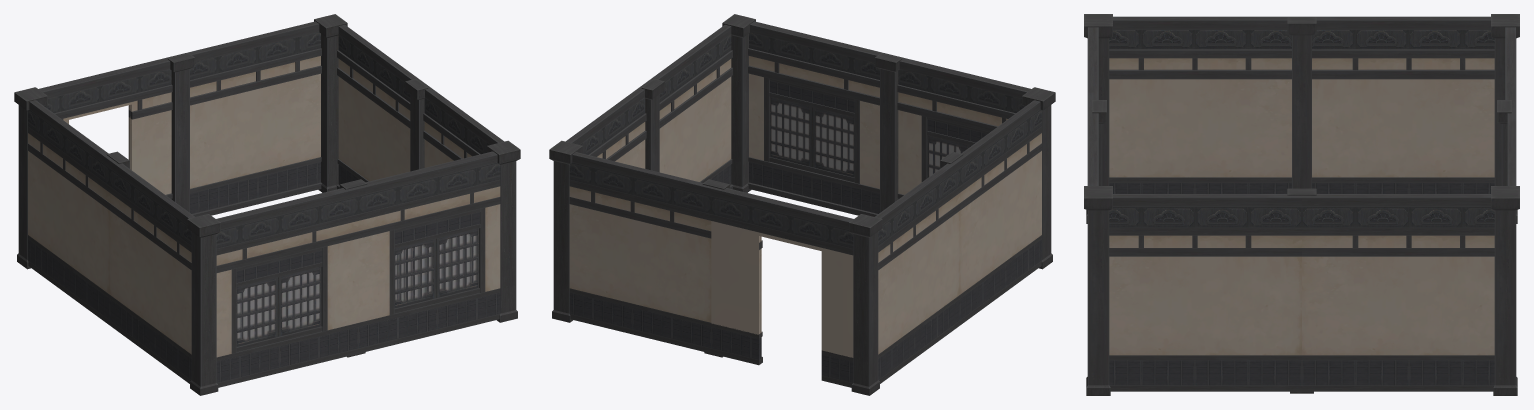
File: Homeworld_Interior_Dq_Room_H_Wall_01_Vo.fbx
The picture shows the model from 3 angles, left to right: view 1: azimuth 30°, elevation 25°; view 2: azimuth 150°, elevation 25°; view 3: azimuth 270°, elevation 25°; orthographic projection. The views are drawn at different scales.
Visible parts, largest first — view 1: Homeworld_Interior_Dq_Room_Wall_01_Vo (×5), Homeworld_Interior_Dq_Room_Wall_02_Vo (×2), Homeworld_Interior_Dq_Room_Pillar_01_Vo (×4), Homeworld_Interior_Dq_Room_Wall_06_Vo, Homeworld_Interior_Dq_Room_H_Filling_01_Vo, Homeworld_Interior_Dq_Room_Pillar_02_Vo (×2); view 2: Homeworld_Interior_Dq_Room_Wall_01_Vo (×5), Homeworld_Interior_Dq_Room_Wall_02_Vo (×2), Homeworld_Interior_Dq_Room_Wall_06_Vo, Homeworld_Interior_Dq_Room_Pillar_01_Vo (×4), Homeworld_Interior_Dq_Room_Pillar_02_Vo (×2); view 3: Homeworld_Interior_Dq_Room_Wall_01_Vo (×5), Homeworld_Interior_Dq_Room_Pillar_01_Vo (×4), Homeworld_Interior_Dq_Room_Pillar_02_Vo (×3), Homeworld_Interior_Dq_Room_Wall_02_Vo (×2), Homeworld_Interior_Dq_Room_Wall_06_Vo.
Part boxes in pixels (x1,y1,x2,y2): Homeworld_Interior_Dq_Room_Wall_01_Vo (×5): (28, 21, 504, 383); Homeworld_Interior_Dq_Room_Wall_02_Vo (×2): (216, 151, 500, 387); Homeworld_Interior_Dq_Room_Pillar_01_Vo (×4): (14, 14, 520, 395); Homeworld_Interior_Dq_Room_Wall_06_Vo: (38, 55, 176, 199); Homeworld_Interior_Dq_Room_H_Filling_01_Vo: (130, 105, 477, 340); Homeworld_Interior_Dq_Room_Pillar_02_Vo (×2): (167, 53, 428, 212); Homeworld_Interior_Dq_Room_Wall_01_Vo (×5): (565, 24, 1041, 383); Homeworld_Interior_Dq_Room_Wall_02_Vo (×2): (748, 21, 1031, 216); Homeworld_Interior_Dq_Room_Wall_06_Vo: (711, 187, 853, 387); Homeworld_Interior_Dq_Room_Pillar_01_Vo (×4): (549, 14, 1055, 395); Homeworld_Interior_Dq_Room_Pillar_02_Vo (×2): (641, 53, 902, 212); Homeworld_Interior_Dq_Room_Wall_01_Vo (×5): (1109, 16, 1515, 391); Homeworld_Interior_Dq_Room_Pillar_01_Vo (×4): (1084, 14, 1519, 395); Homeworld_Interior_Dq_Room_Pillar_02_Vo (×3): (1092, 17, 1511, 188); Homeworld_Interior_Dq_Room_Wall_02_Vo (×2): (1088, 27, 1098, 185); Homeworld_Interior_Dq_Room_Wall_06_Vo: (1505, 27, 1515, 107).
Size of what is drawn, in the model's own units: 10.18 by 5.12 by 10.18.
